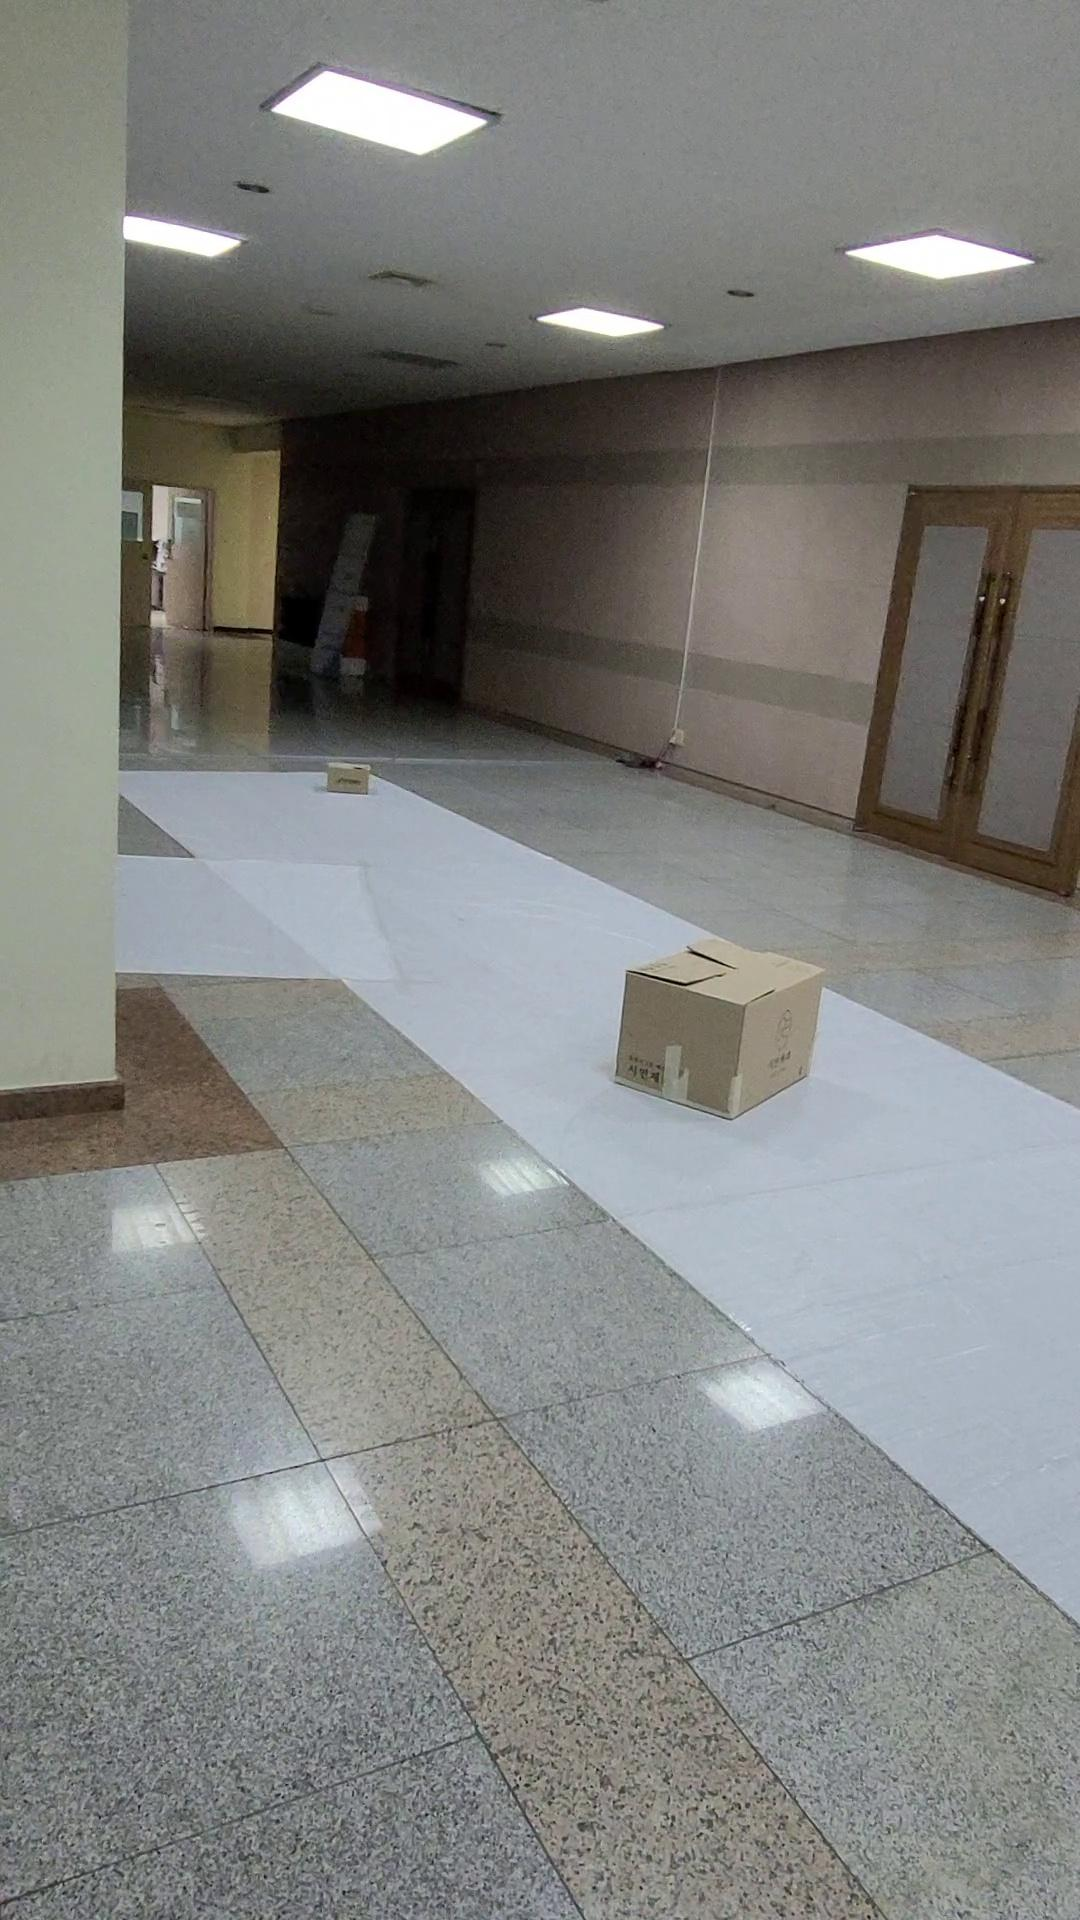Box: (578, 909, 862, 1178), (311, 742, 410, 825)
